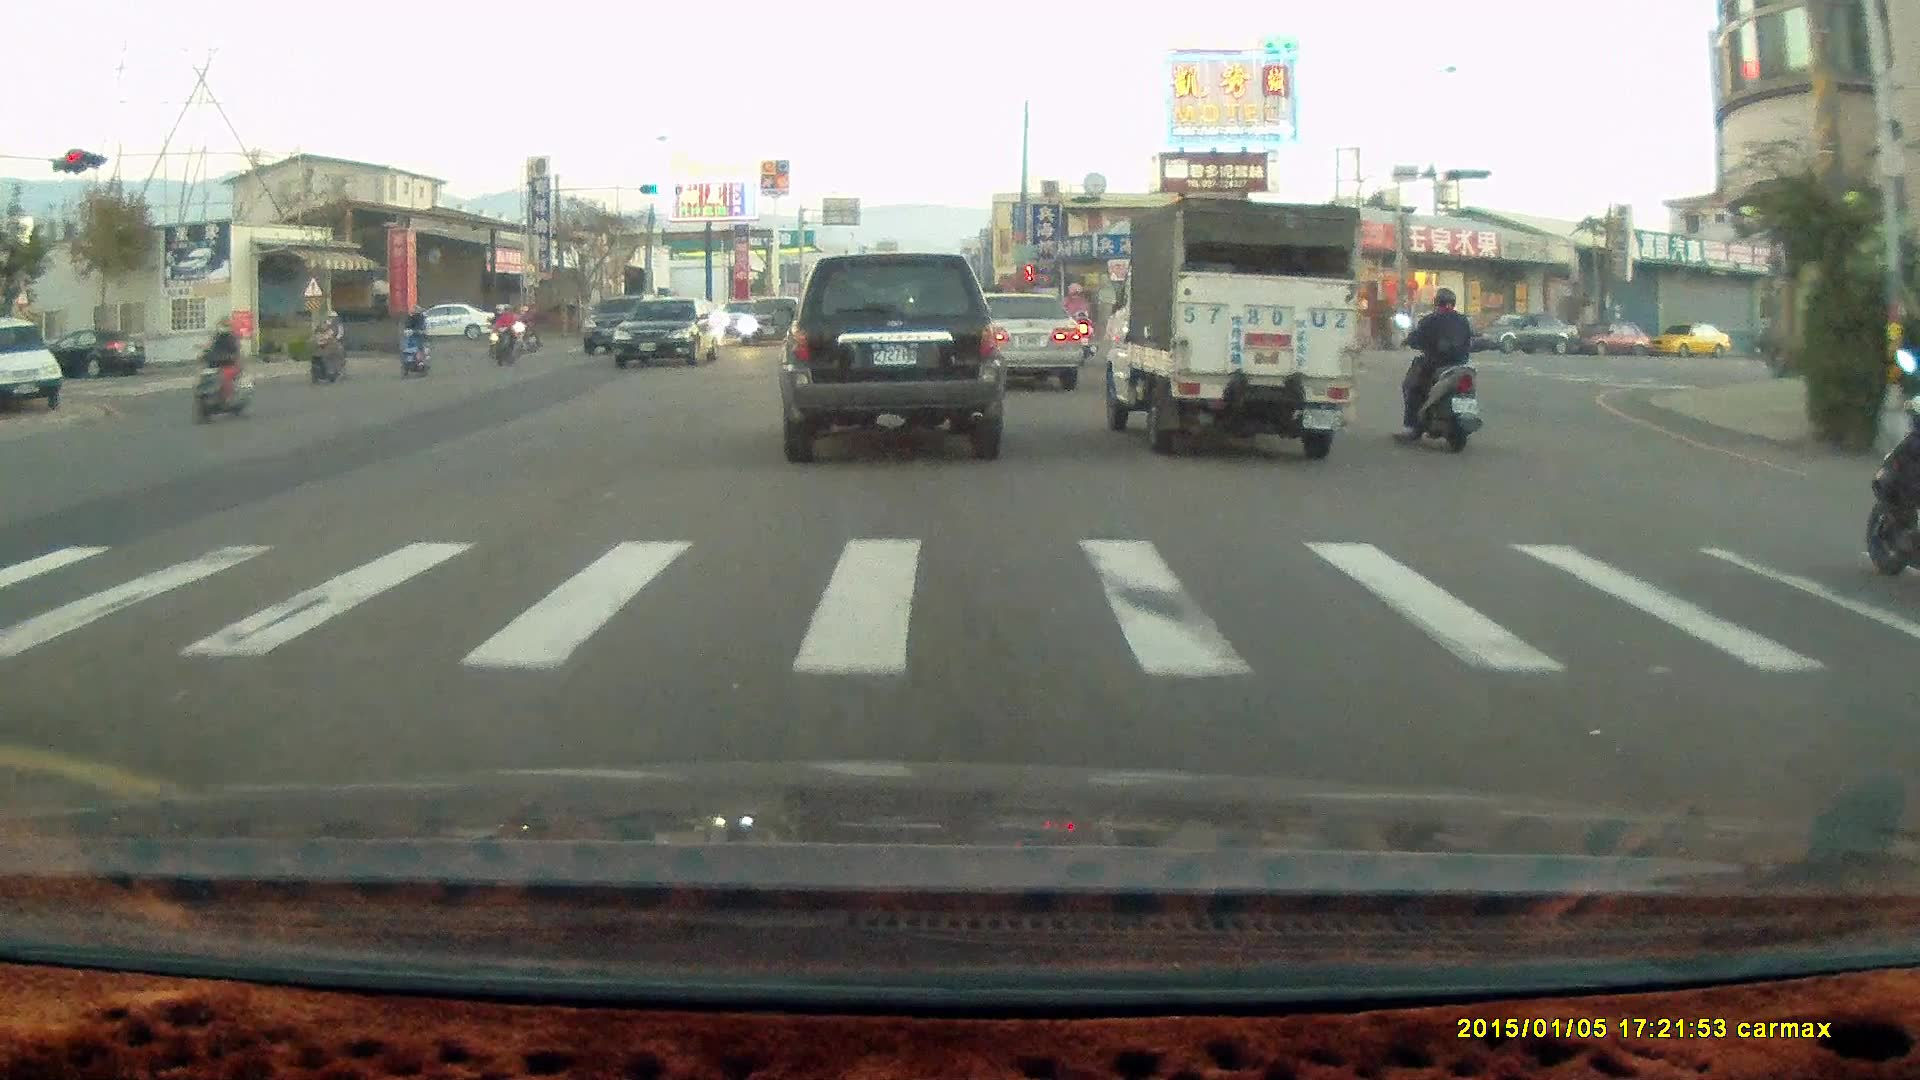rider: (1392, 285, 1484, 455), (1865, 384, 1920, 582), (184, 320, 258, 421), (306, 305, 349, 386), (394, 302, 430, 378), (490, 300, 517, 369)
vehicle: (1095, 197, 1364, 461), (775, 251, 1004, 464), (964, 290, 1085, 395), (958, 291, 1084, 391), (612, 299, 728, 373), (1, 314, 65, 413), (1464, 314, 1582, 361), (417, 303, 500, 343), (1575, 321, 1654, 361), (1647, 327, 1734, 364)
